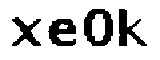0: (81, 5, 116, 48)
e: (44, 18, 81, 48)
k: (118, 6, 150, 49)
x: (10, 13, 43, 49)
